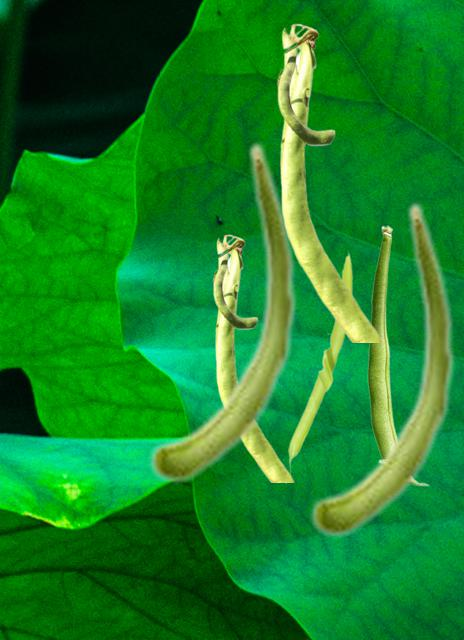french_bean: (148, 140, 297, 483), (309, 200, 455, 537), (276, 23, 381, 341), (212, 234, 293, 481), (367, 225, 429, 485), (285, 250, 353, 484)
